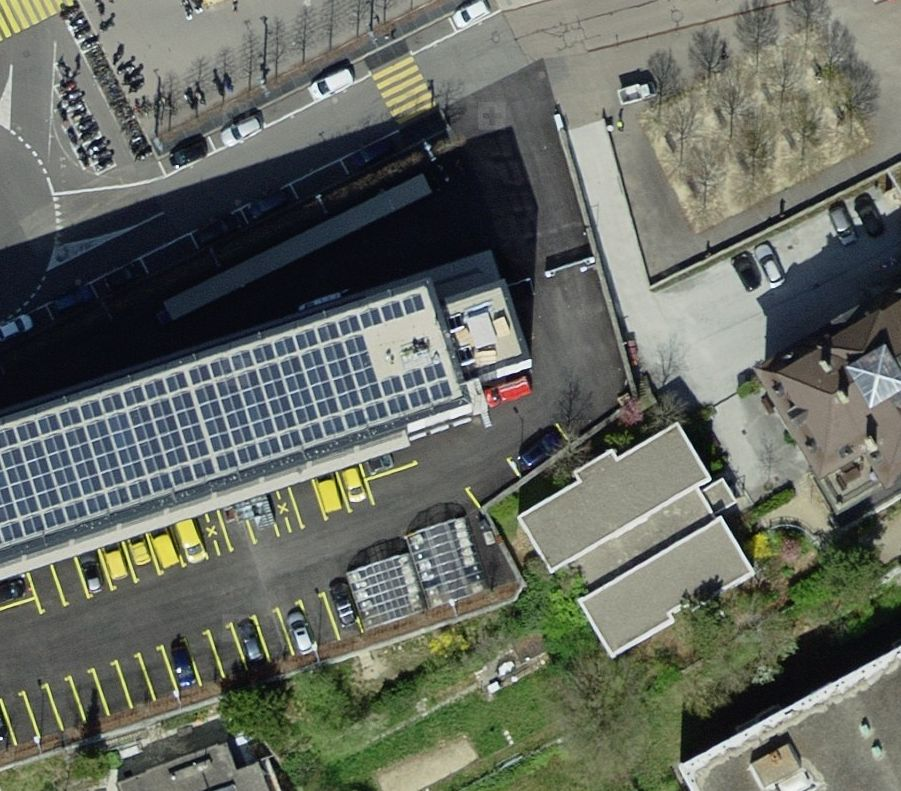solar: (1, 294, 452, 551)
